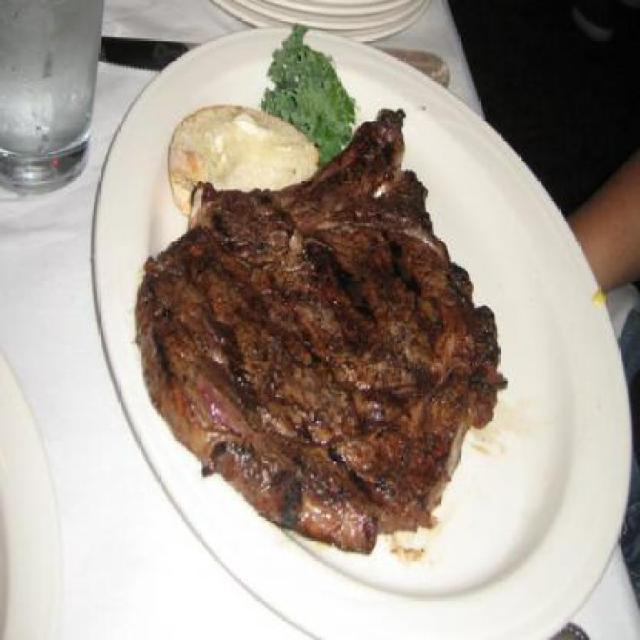Steak: (92, 140, 530, 578)
